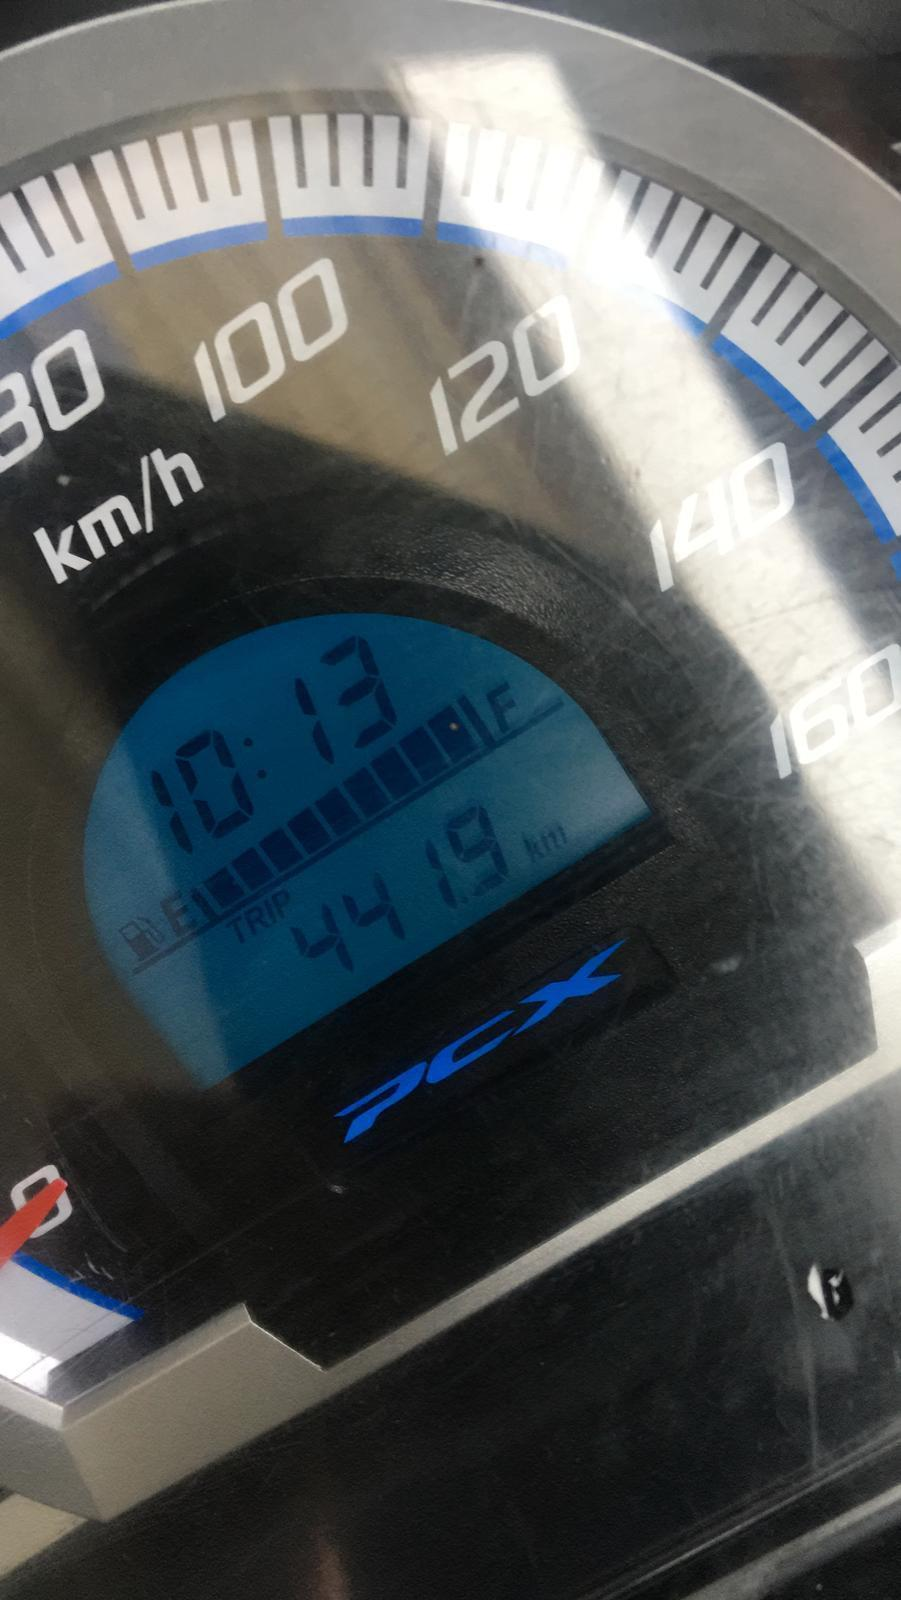,: (458, 891, 469, 907)
0: (170, 726, 258, 842)
1: (136, 763, 192, 870), (287, 664, 338, 770), (414, 823, 463, 925)
3: (314, 631, 402, 756)
4: (285, 903, 357, 984), (340, 869, 411, 948)
9: (446, 800, 514, 897)
X: (234, 722, 282, 788), (481, 675, 524, 734), (155, 886, 198, 940), (522, 831, 545, 864), (222, 914, 248, 943), (243, 905, 268, 934), (270, 889, 294, 919), (542, 825, 568, 851), (260, 895, 278, 925)
odometer: (55, 604, 658, 1097)
